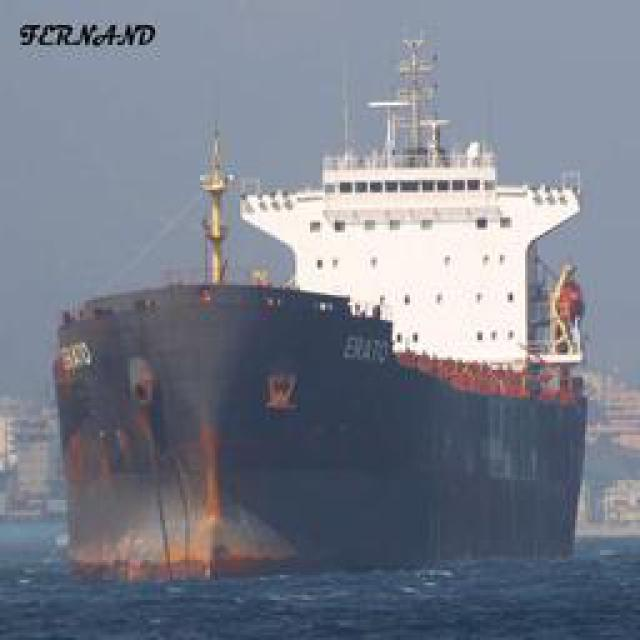Ship: (35, 41, 595, 593)
